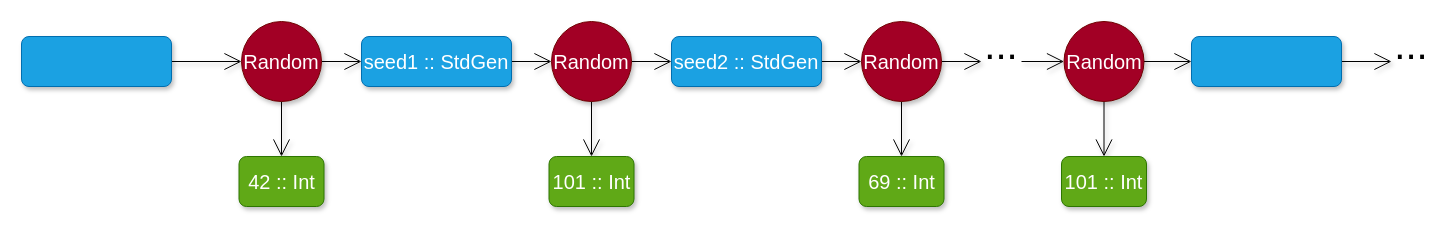
Image size: 1455x231. Some labels were removed from this diagram. Each missing label, with the centre of its shape:
seed0 :: StdGen: the point at 97,63
seedn :: StdGen: the point at 1267,63
